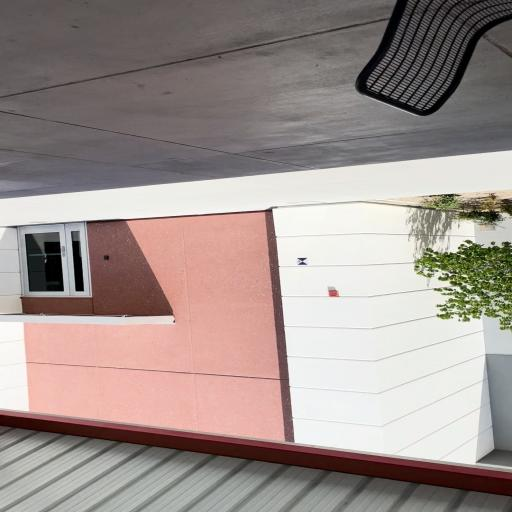target6: (296, 258, 308, 265)
